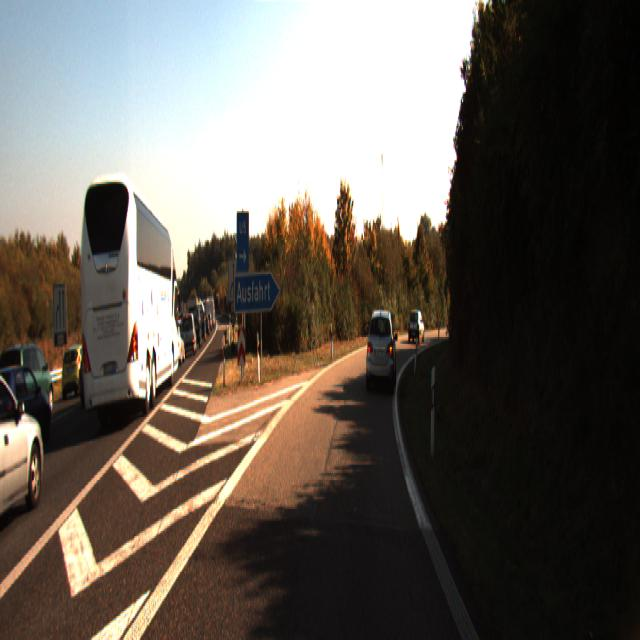Car: (78, 170, 178, 434), (0, 359, 48, 549), (0, 359, 54, 466), (0, 341, 55, 433), (366, 308, 396, 392), (62, 343, 94, 403), (164, 327, 184, 371), (181, 314, 197, 358), (408, 310, 426, 344), (440, 302, 455, 328)
